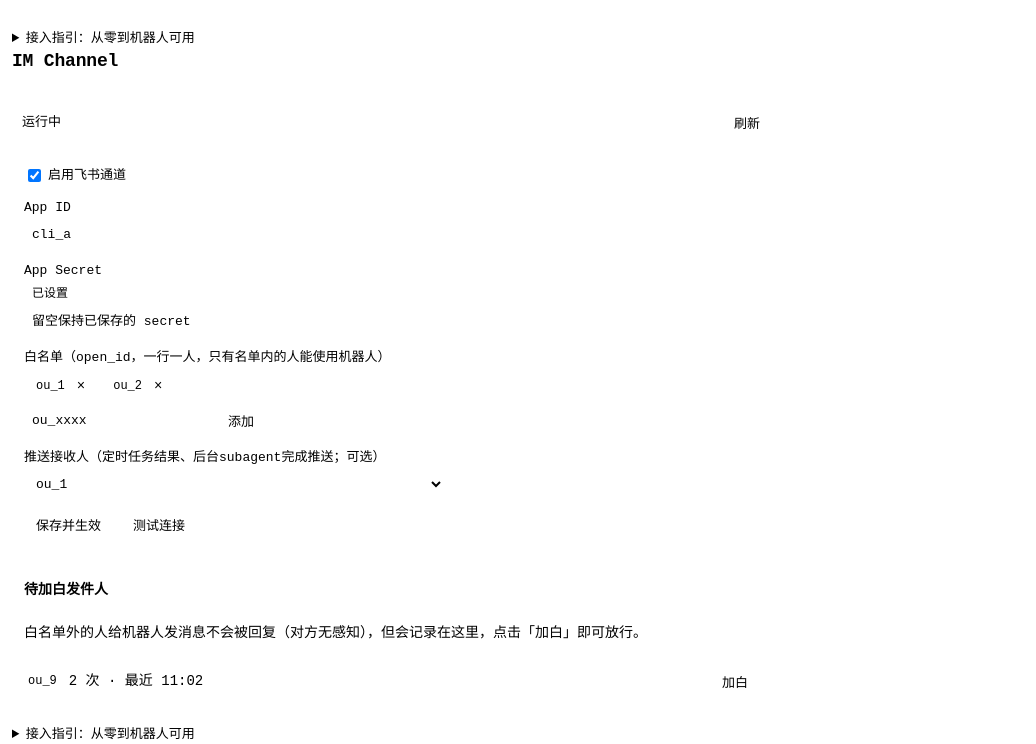
Test: ChannelView › shows a validation failure inline
The image size is (1036, 744).
(page scrolled)
Click the button with test id "channel-save": (68, 524) [24,508,113,540]
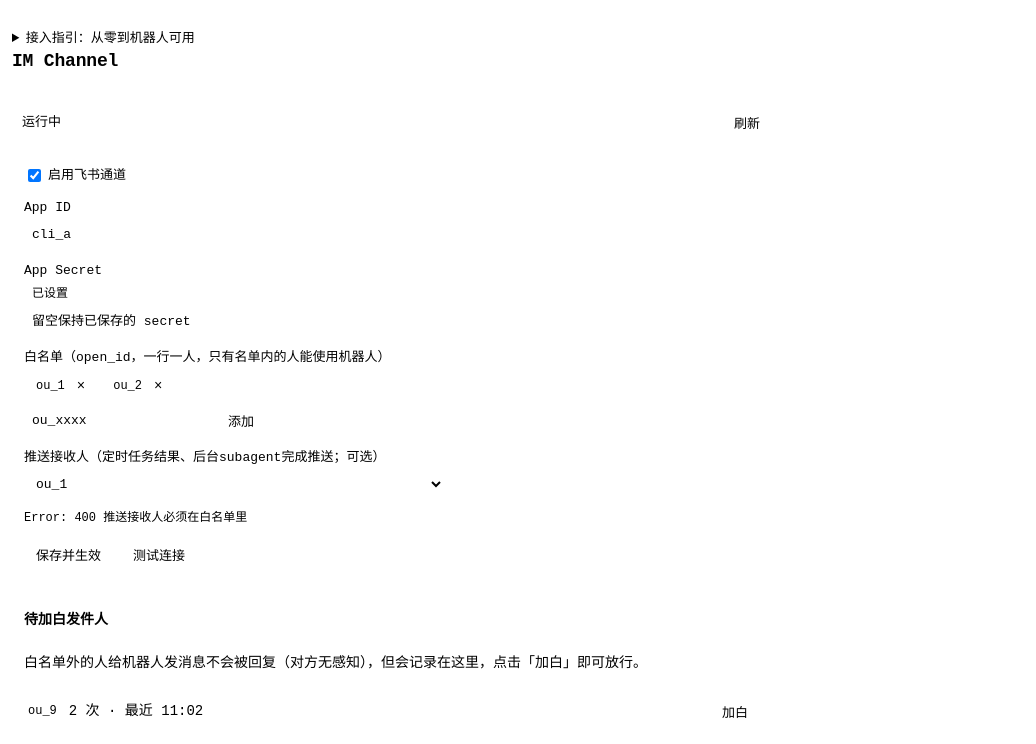
Check: the text with test id "channel-form-error" shows "白名单", box [24,510,247,524]
